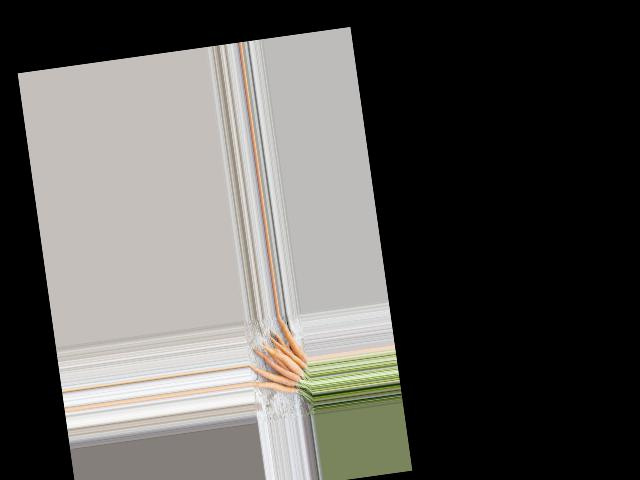carrot: (275, 313, 308, 369)
